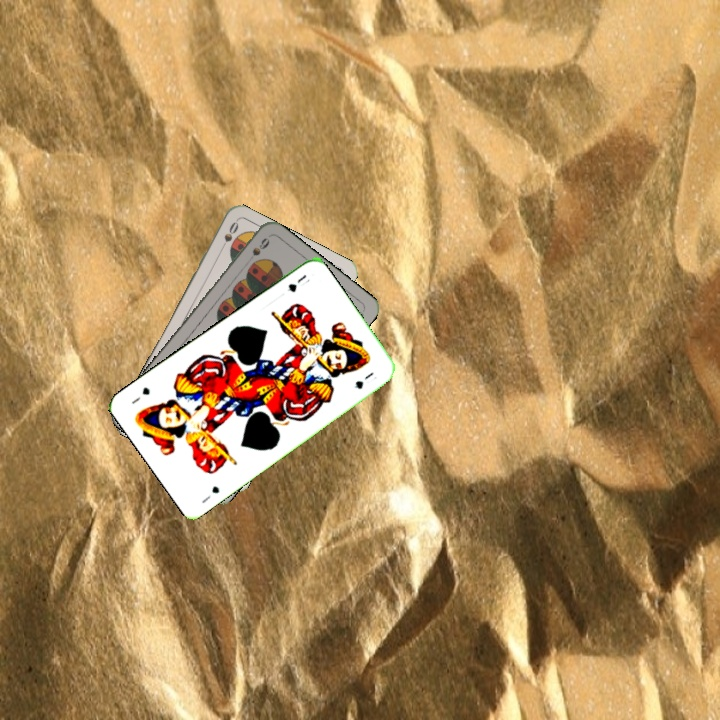GU: (284, 270, 313, 295), (198, 482, 222, 506)
S9: (248, 234, 272, 259)
SO: (215, 217, 241, 255)
